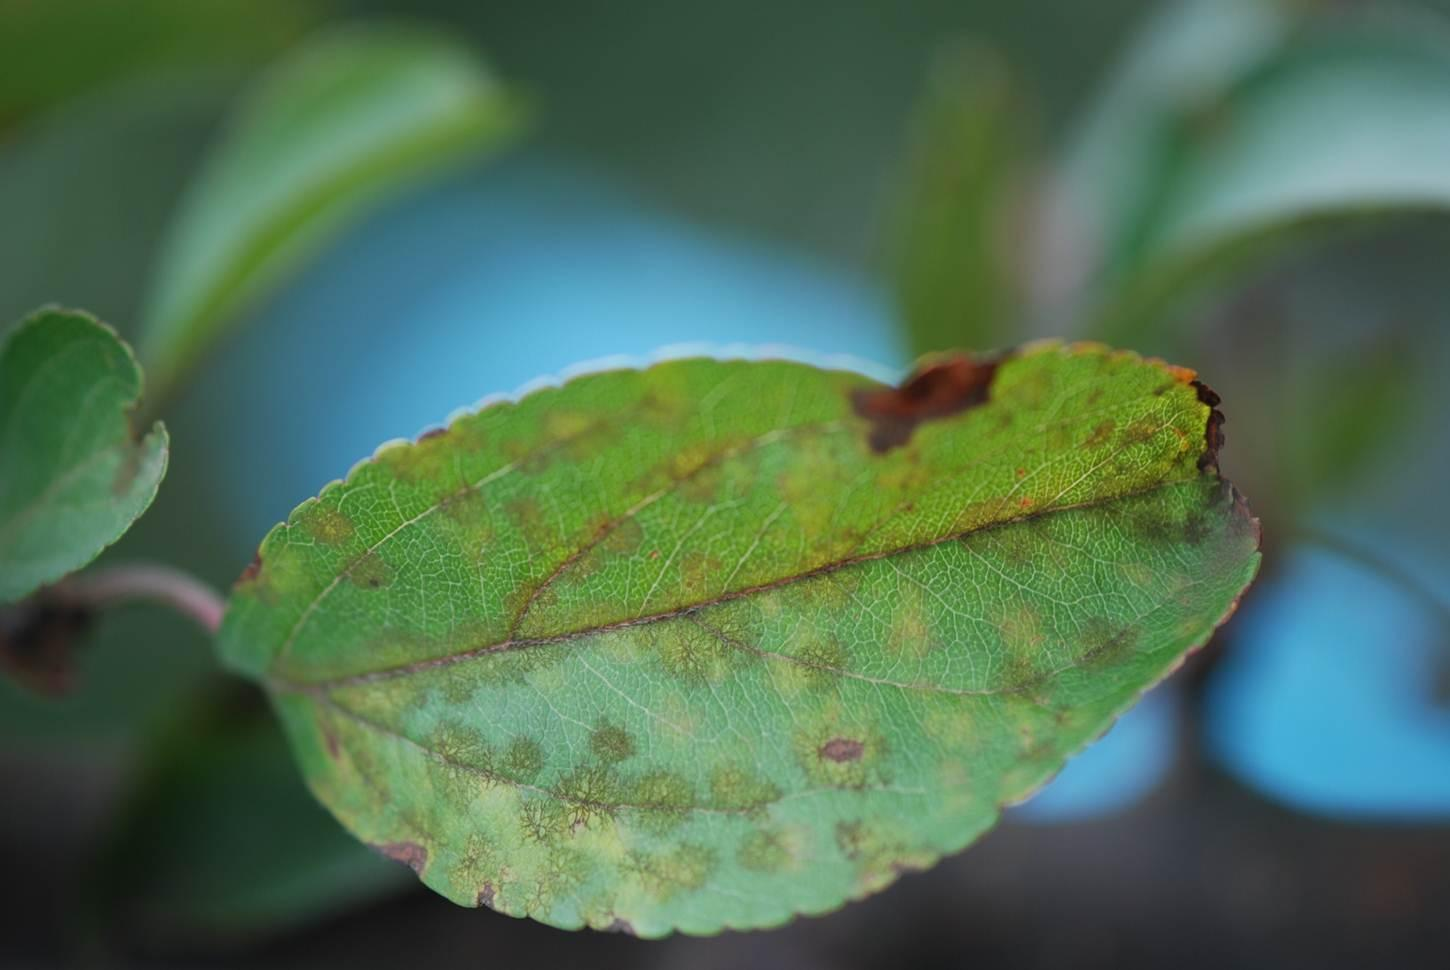Apple Scab Leaf: (215, 307, 1263, 970)
